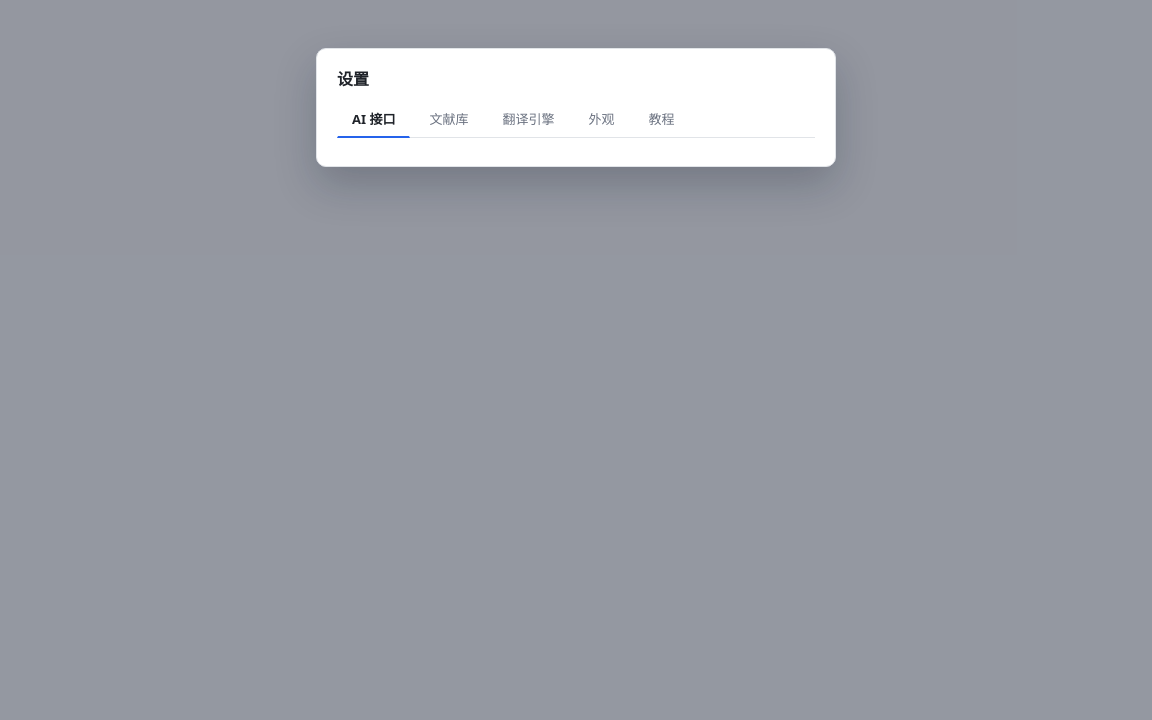
SettingsDialog tabs › 未提供回调时教程页说明引导暂不可用
Click the tab "教程". click: (662, 120)
box: [634,103,690,138]
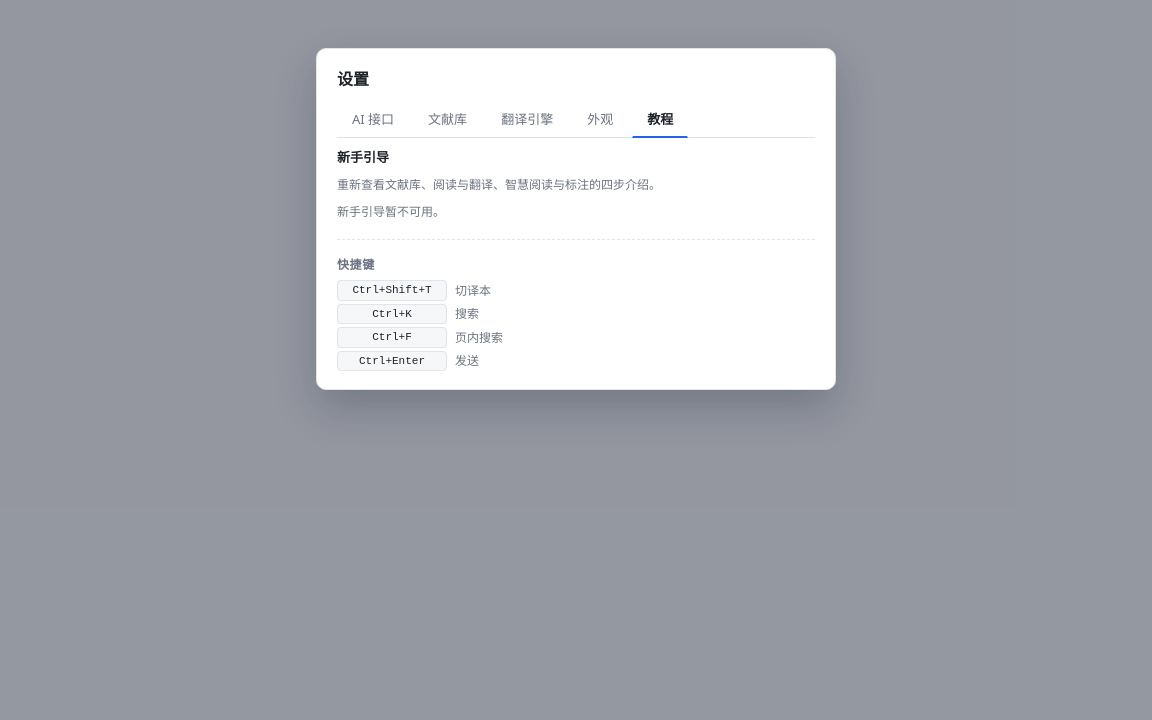
Check: the text "新手引导暂不可用。" is shown, box [337,202,445,221]
